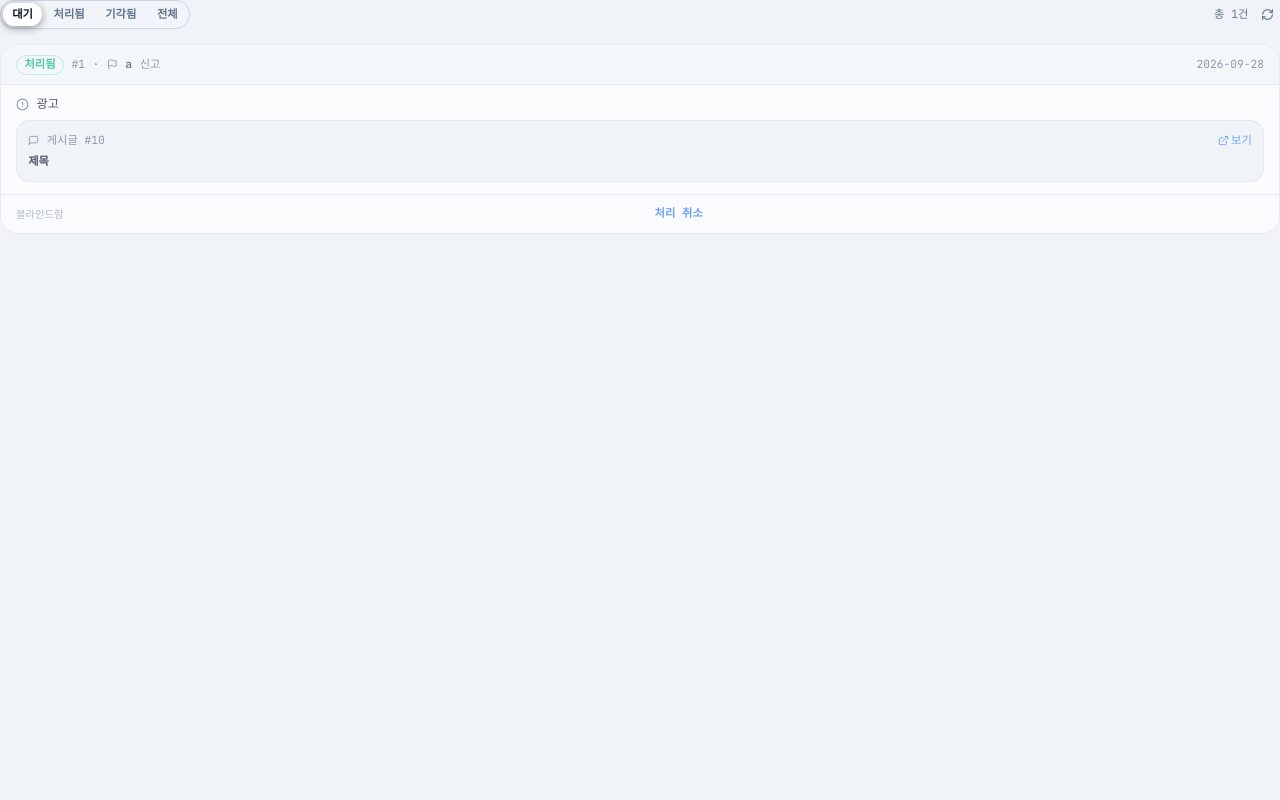
Test: 신고 처리 취소 › 다른 신고 때문에 글을 그대로 뒀으면 그렇다고 알려 준다
The width and height of the screenshot is (1280, 800).
Step 1. Click the button "처리 취소" → (679, 214), box 78,195 -> 1279,233
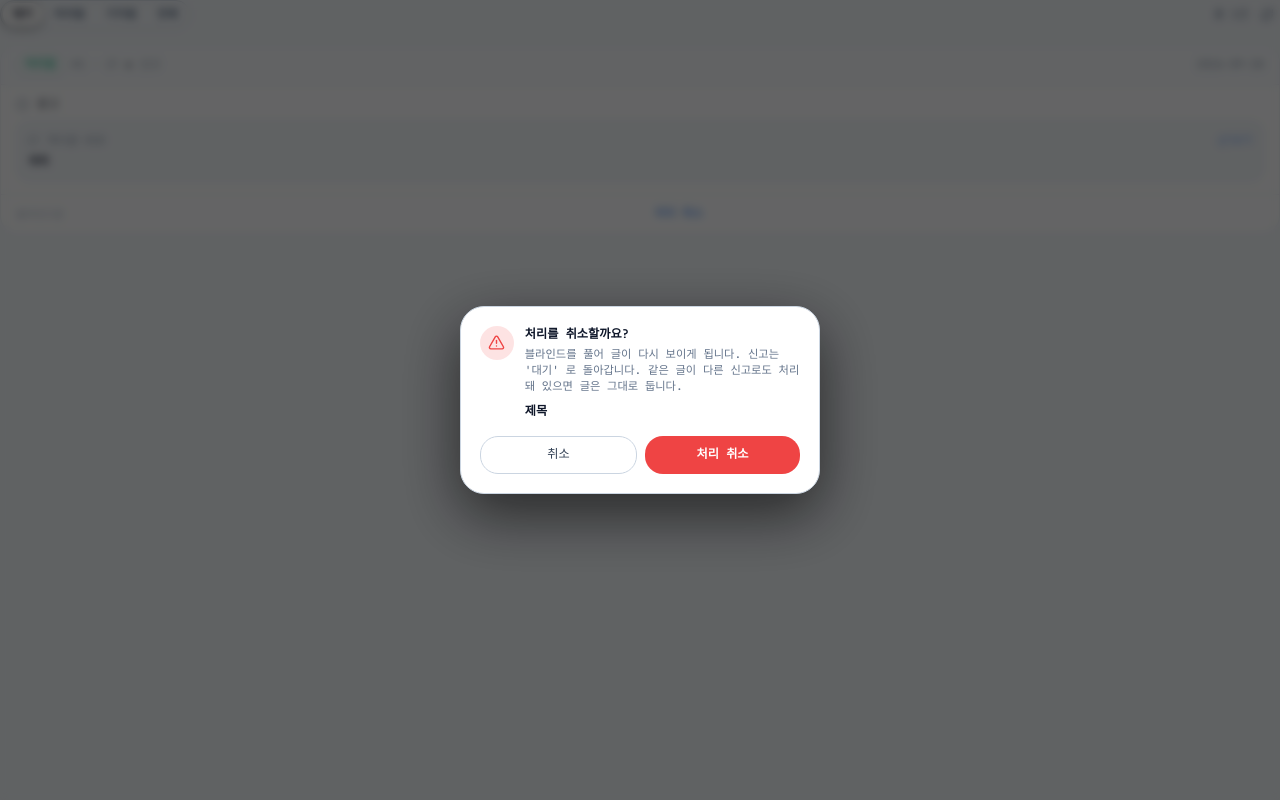
Result: the text "블라인드를 풀어" is shown at 525,347 -> 799,393
Step 2. Click the button "처리 취소" → (723, 455), box 645,436 -> 800,474
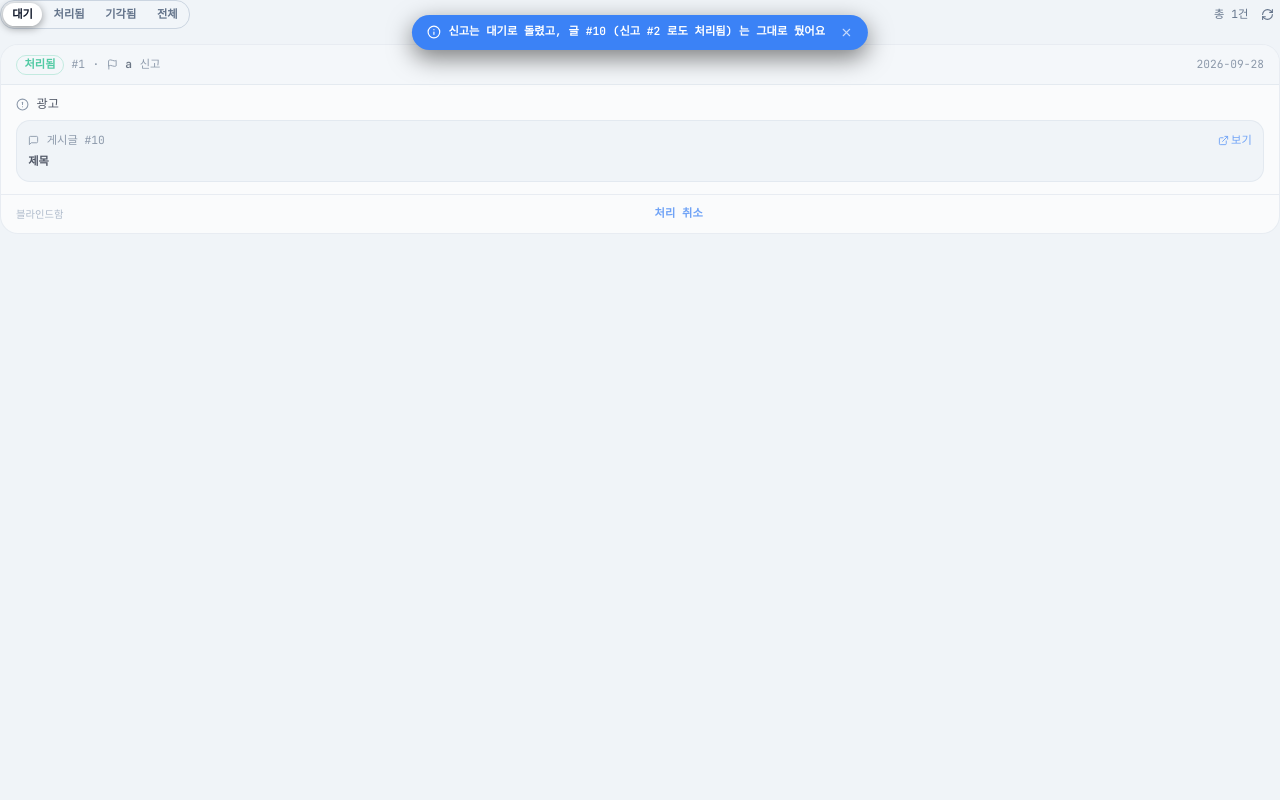
Result: the text "신고는 대기로 돌렸고, 글 #10 (신고 #2 로도 처리됨) 는 그대로 뒀어요" is shown at 448,24 -> 825,40
